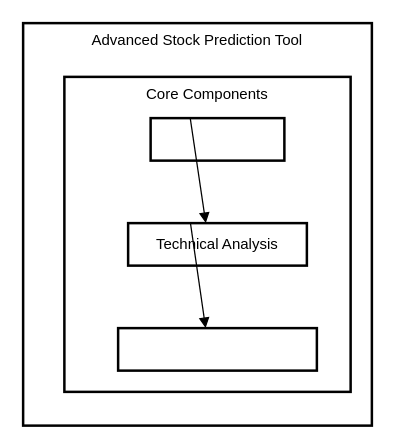
Image size: 394x448. Some labels were removed from this diagram. The shapes that lost their labels are listed below. From the top down, each one's box as (x1, y1, x2, y2) in pixels, then its label:
(149, 116, 285, 161): LSTM Module
(116, 326, 318, 371): Feature Engineering
